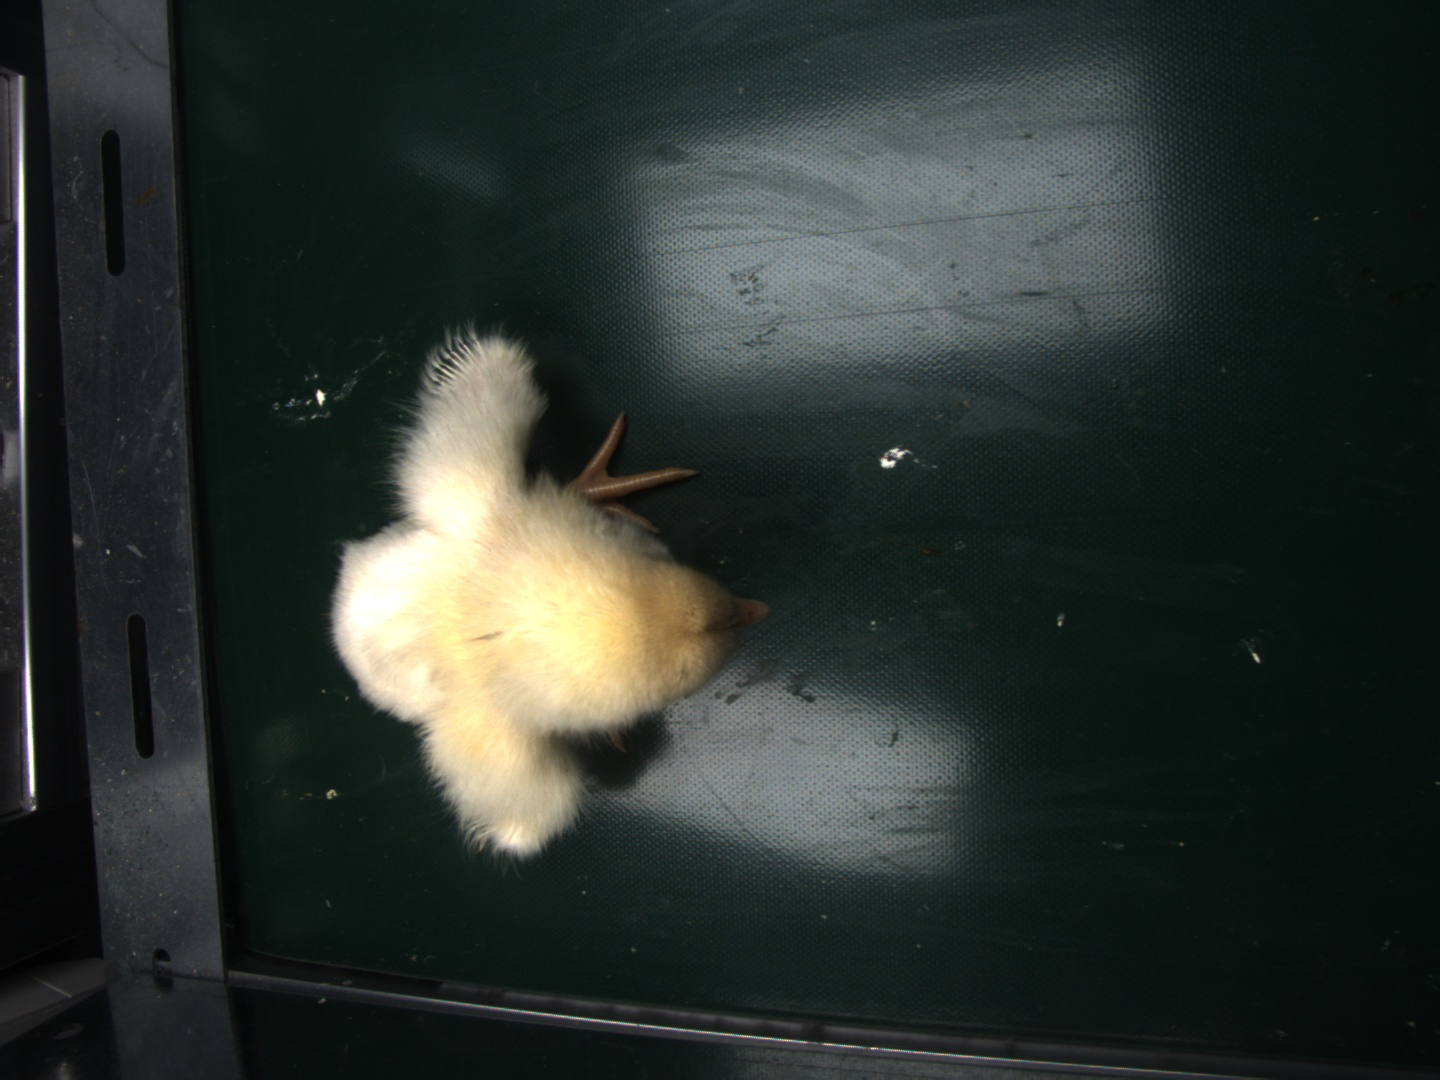male: (429, 337, 485, 395)
